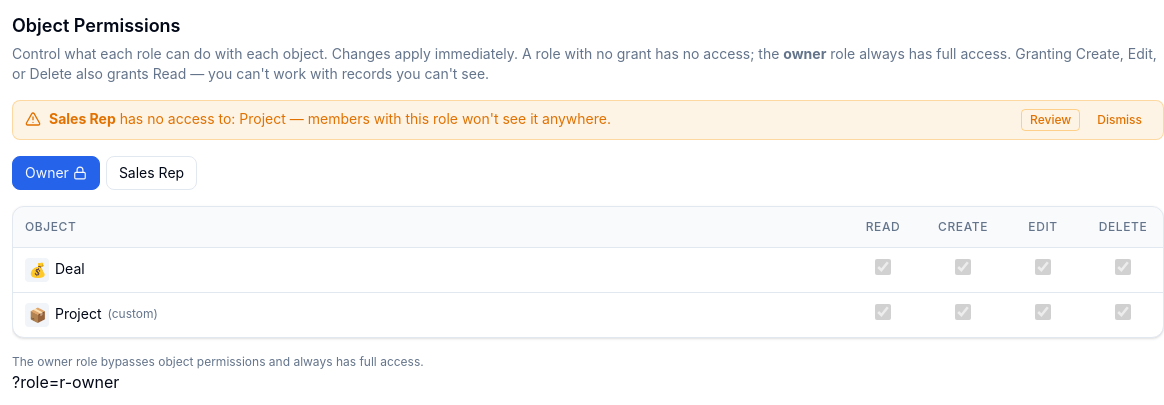
Scenario: PermissionsManager — role × object grid › Review on a zero-access item jumps to that role tab and writes ?role=
The width and height of the screenshot is (1164, 405).
Expected: the text "Deal" is shown, [55,259,85,276]
Click the button with aria-label "Review Sales Rep access". click: (1051, 120)
box: [1021,109,1080,131]
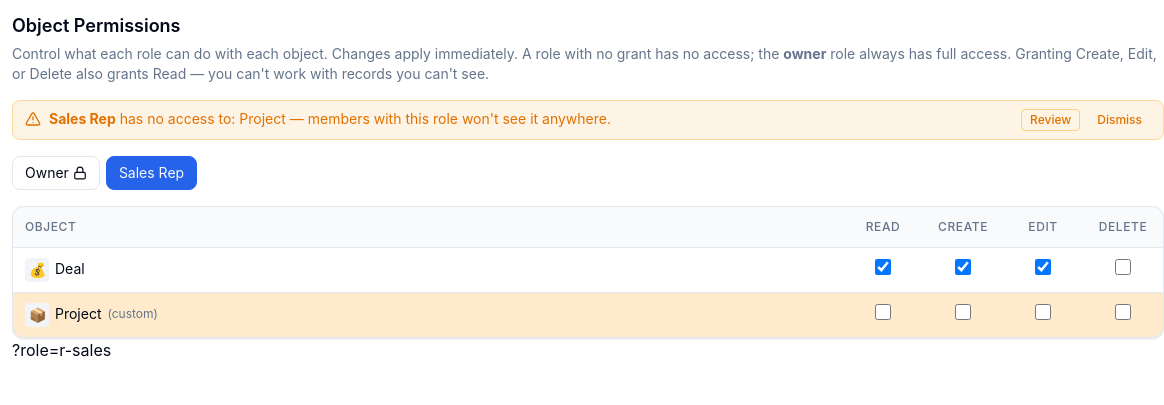
Now the text with test id "location-search" shows "role=r-sales", box [12,340,111,360]
